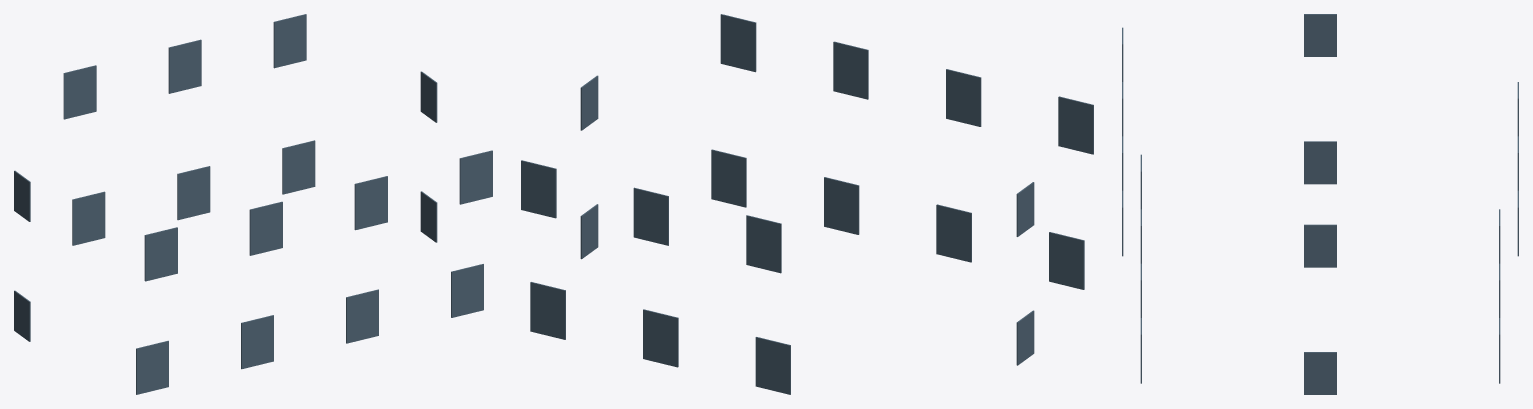
The model's file is House_Tavern_Glass.fbx.
The picture shows the model from 3 angles, left to right: view 1: azimuth 30°, elevation 25°; view 2: azimuth 150°, elevation 25°; view 3: azimuth 270°, elevation 25°; orthographic projection. The views are drawn at different scales.
Parts seen in each view (by area): view 1: House_Tavern_Glass; view 2: House_Tavern_Glass; view 3: House_Tavern_Glass.
Part boxes in pixels (box(x1,y1,x2,y2)): House_Tavern_Glass: box(14, 14, 492, 394); House_Tavern_Glass: box(521, 14, 1093, 394); House_Tavern_Glass: box(1122, 14, 1518, 394).
Bounding box in the file's own units: 10.68 × 8.48 × 4.15.
